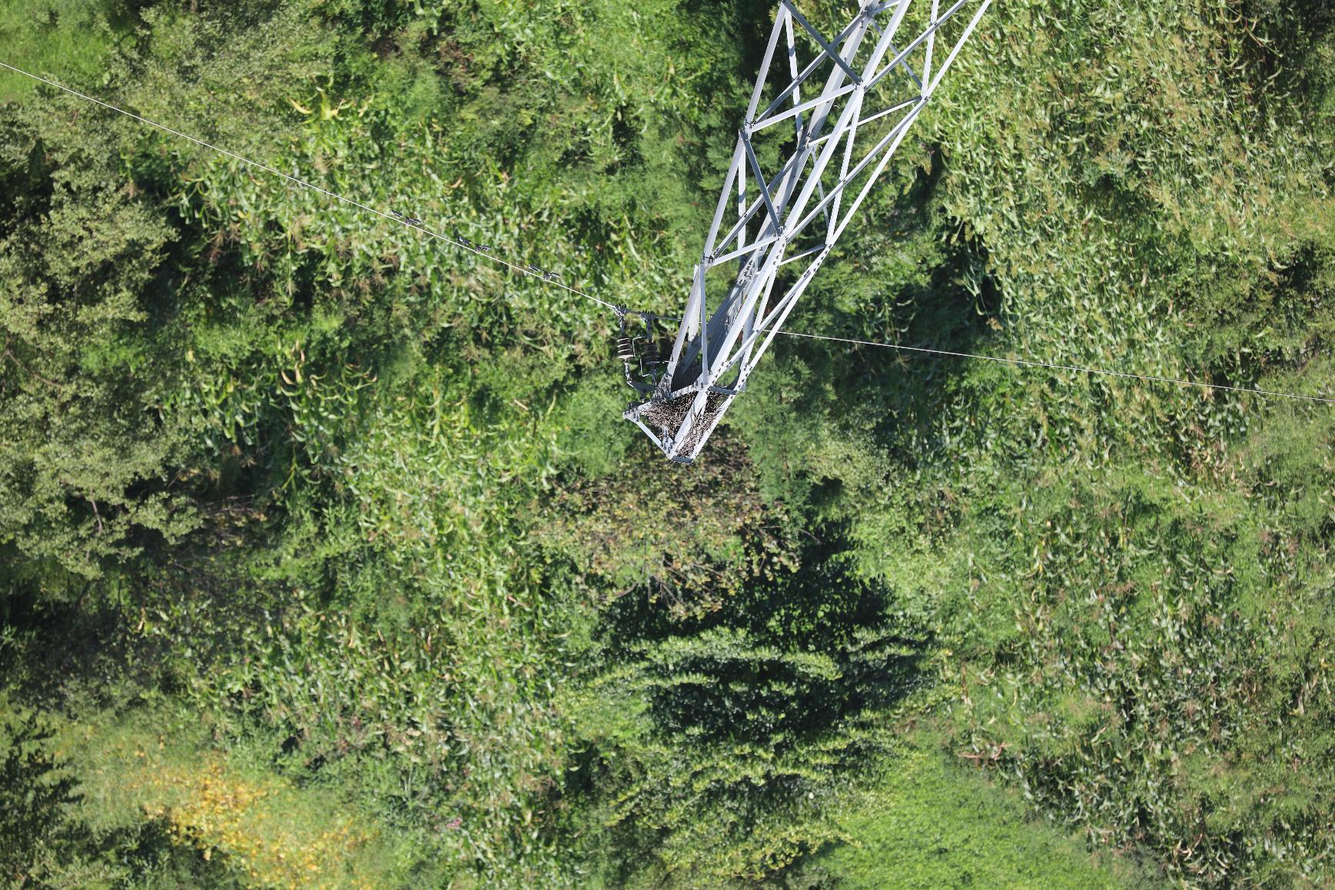damper: (454, 234, 494, 257), (524, 262, 561, 284), (386, 208, 423, 229)
nest: (642, 390, 724, 455)
